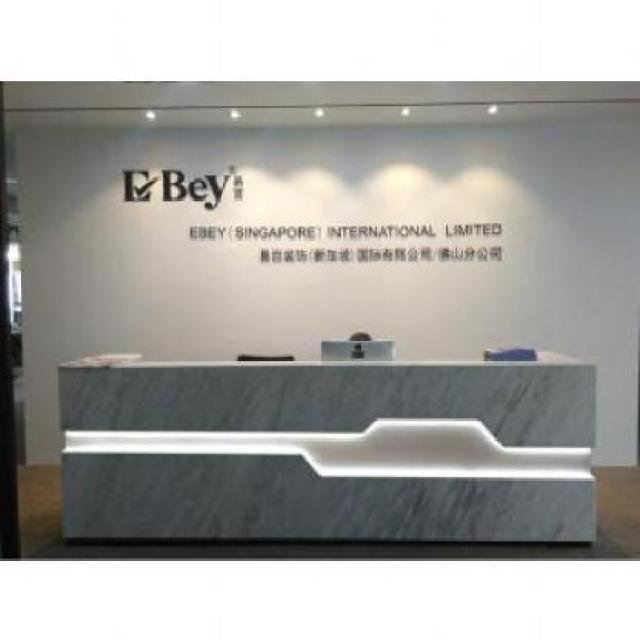frontdesk: (46, 338, 609, 551)
